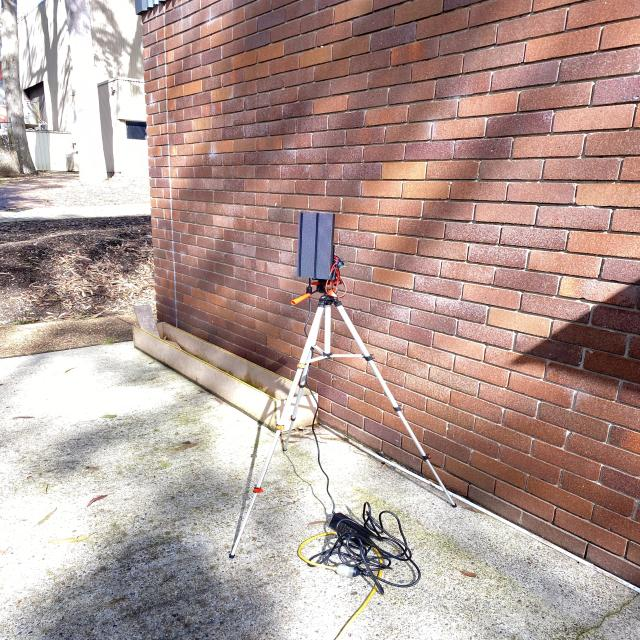matrix: (292, 210, 339, 282)
